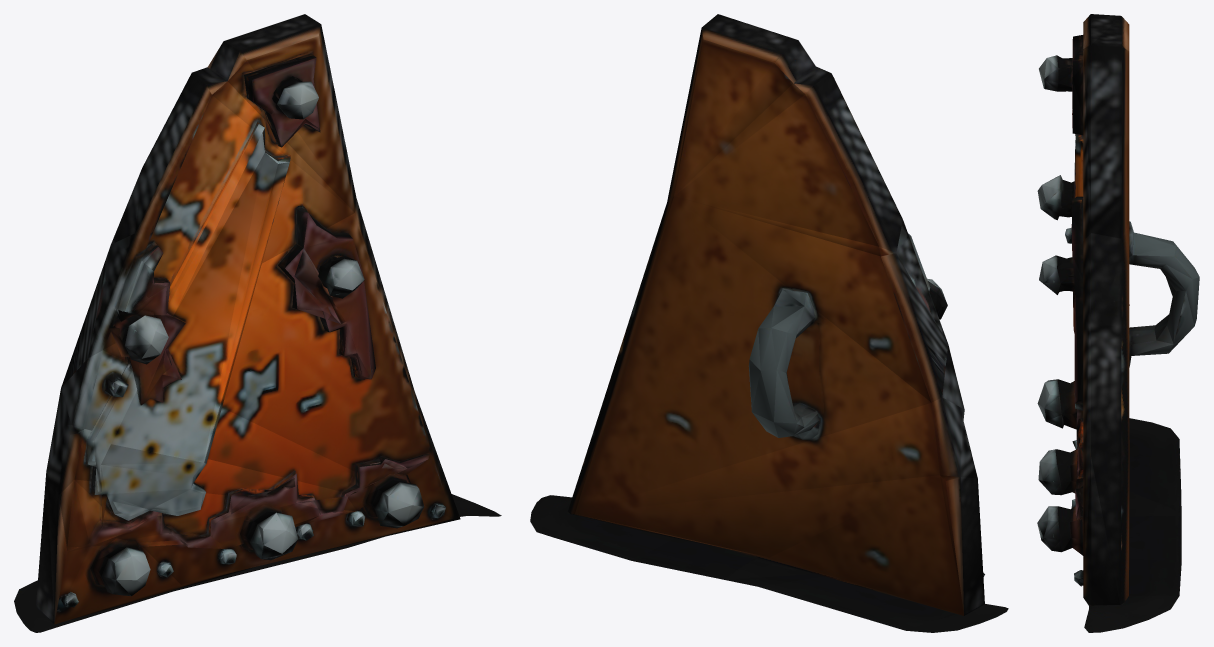
File: tail_fin.glb
3 views of the same model, side by side, from view 1: azimuth 30°, elevation 25°; view 2: azimuth 150°, elevation 25°; view 3: azimuth 270°, elevation 25° (orthographic). The views are drawn at different scales.
Parts seen in each view (by area): view 1: tripo_node_d439c7ea-5498-414a-a49d-99f06003f12b; view 2: tripo_node_d439c7ea-5498-414a-a49d-99f06003f12b; view 3: tripo_node_d439c7ea-5498-414a-a49d-99f06003f12b.
Part boxes in pixels (x1,y1,x2,y2): tripo_node_d439c7ea-5498-414a-a49d-99f06003f12b: [14, 14, 501, 632]; tripo_node_d439c7ea-5498-414a-a49d-99f06003f12b: [530, 14, 1008, 632]; tripo_node_d439c7ea-5498-414a-a49d-99f06003f12b: [1037, 14, 1199, 632].
Bounding box in the file's own units: 0.9199 × 0.9974 × 0.2907.
1 material, 1 textured.
